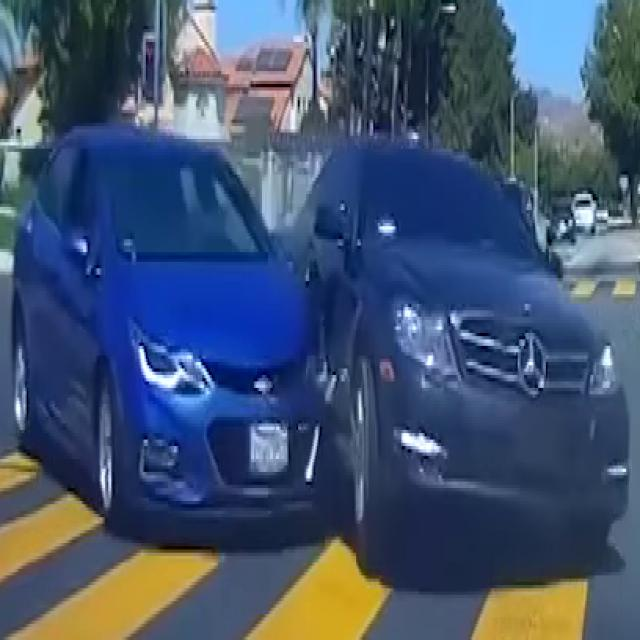accident: (11, 131, 621, 561)
